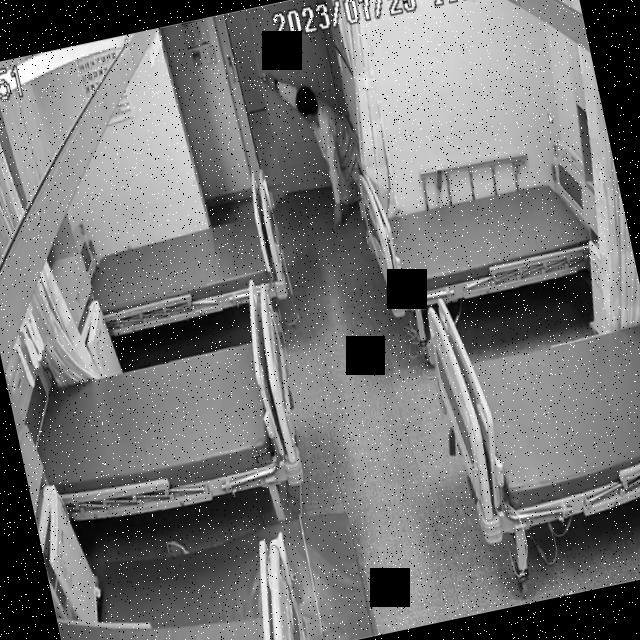bed: (418, 257, 640, 542), (21, 327, 310, 530), (358, 154, 612, 319), (84, 201, 288, 336)
danger: (268, 65, 374, 241)
patient: (267, 62, 373, 239)
